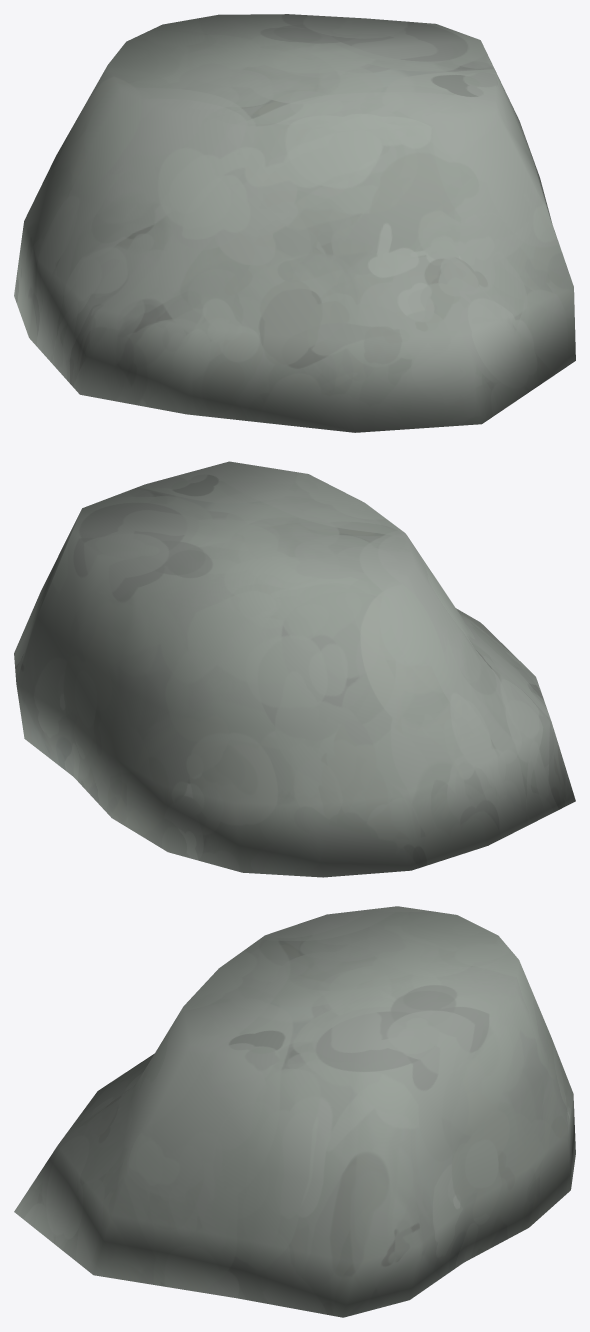
File: SM_Small_Rocks_05.fbx
The picture shows the model from 3 angles, top to bottom: view 1: azimuth 30°, elevation 25°; view 2: azimuth 150°, elevation 25°; view 3: azimuth 270°, elevation 25°; orthographic projection. The views are drawn at different scales.
Visible parts, largest first — view 1: Pedra.004; view 2: Pedra.004; view 3: Pedra.004.
Part boxes in pixels (x1=…): Pedra.004: x1=14, y1=14, x2=575, y2=432; Pedra.004: x1=14, y1=461, x2=575, y2=877; Pedra.004: x1=14, y1=906, x2=575, y2=1317.
Bounding box in the file's own units: 383 × 169 × 374.
Materials: 1 (1 with a texture image).
